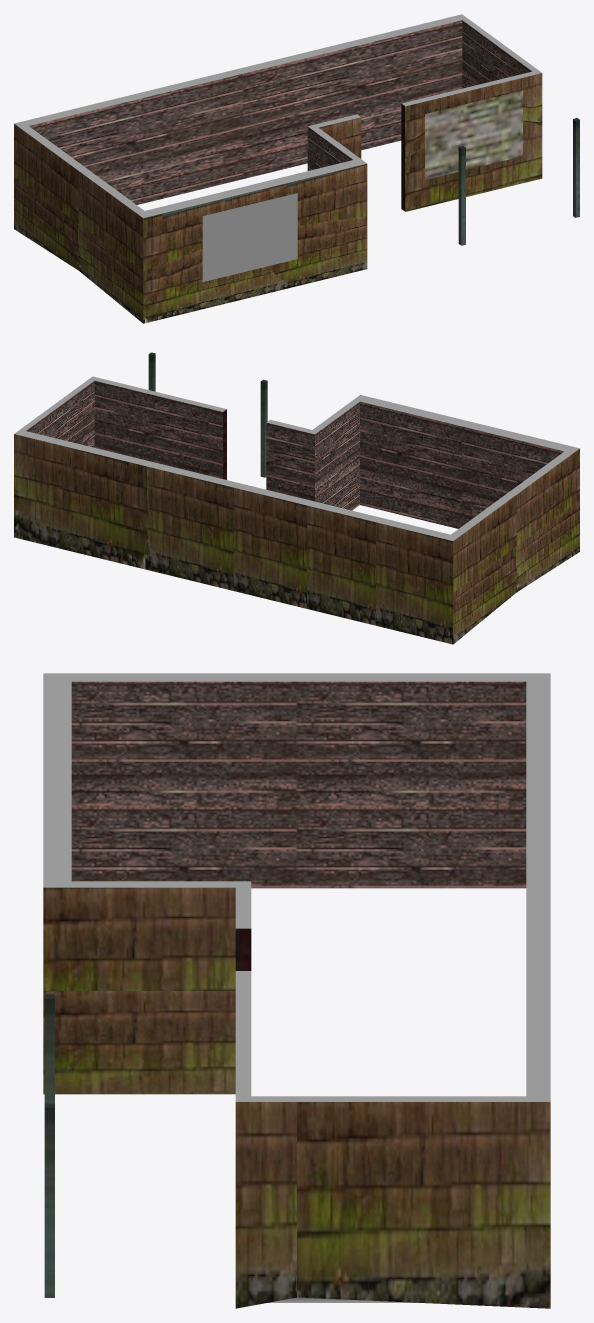
The model's file is house_walls.fbx.
3 renders of one model, top to bottom at view 1: azimuth 30°, elevation 25°; view 2: azimuth 150°, elevation 25°; view 3: azimuth 270°, elevation 25°, orthographic. The views are drawn at different scales.
Parts seen in each view (by area): view 1: house; view 2: house; view 3: house.
Boxes of the visible parts, x1,y1,x2,y2 form: house: [14, 14, 579, 323]; house: [14, 352, 579, 644]; house: [43, 673, 550, 1308].
Size of the model in its own units: 1000 by 225 by 500.
Materials: 3 (2 with a texture image).
